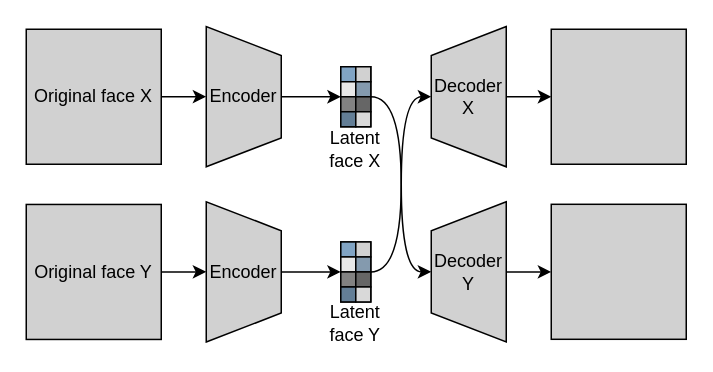
The diagram is 713 pixels wide and 372 high, and some of its shapes have lost their labels. The shapes that lost their labels are listed below. From the top down, each one's centre as x and y in pixels, then its label:
At [618,96]: "Reconstructed face X from face Y".
At [618,271]: "Reconstructed face Y from face X".
